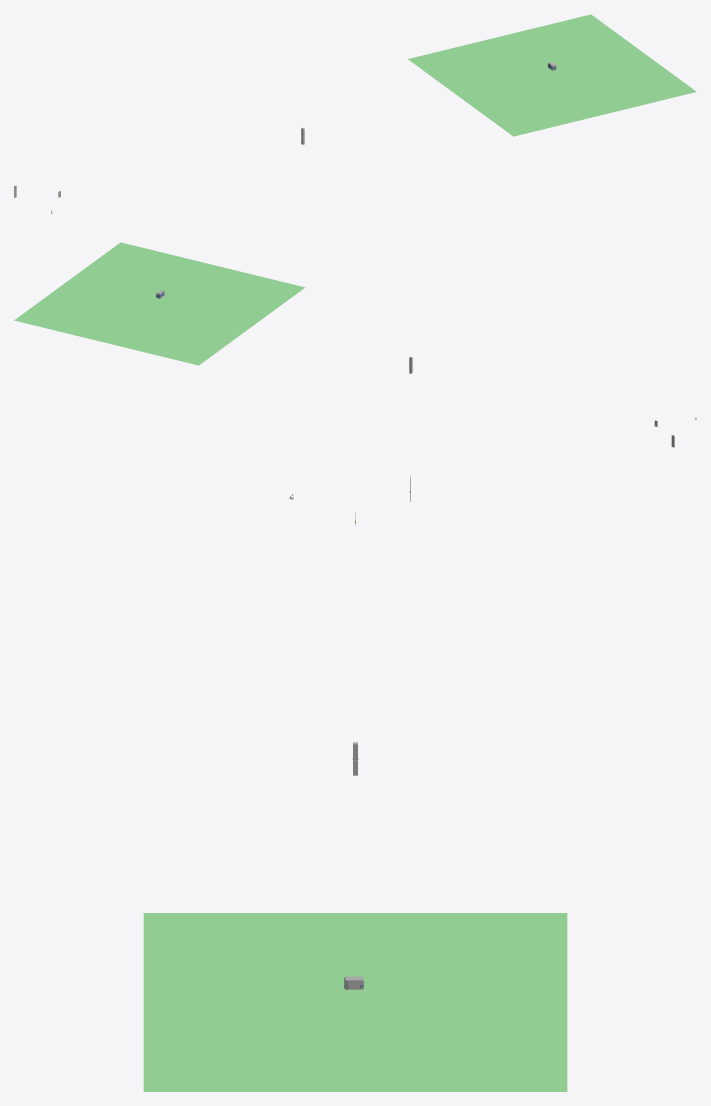
The model's file is Rescale.gltf.
3 views of the same model, one above another, from view 1: azimuth 30°, elevation 25°; view 2: azimuth 150°, elevation 25°; view 3: azimuth 270°, elevation 25° (orthographic). The views are drawn at different scales.
Visible parts, largest first — view 1: Plane; view 2: Plane; view 3: Plane.
Part boxes in pixels (<box>): Plane: <box>408,14,696,136</box>; Plane: <box>14,242,305,365</box>; Plane: <box>143,913,567,1091</box>.
Bounding box in the file's own units: 672 × 20.47 × 200.
